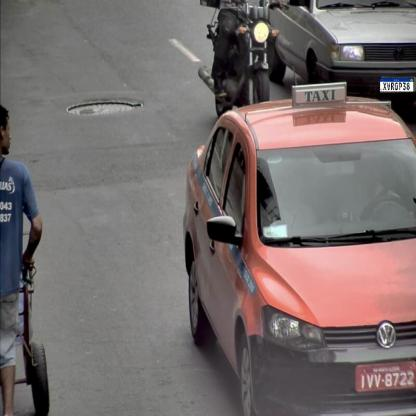PlacaM: (380, 78, 414, 92)
